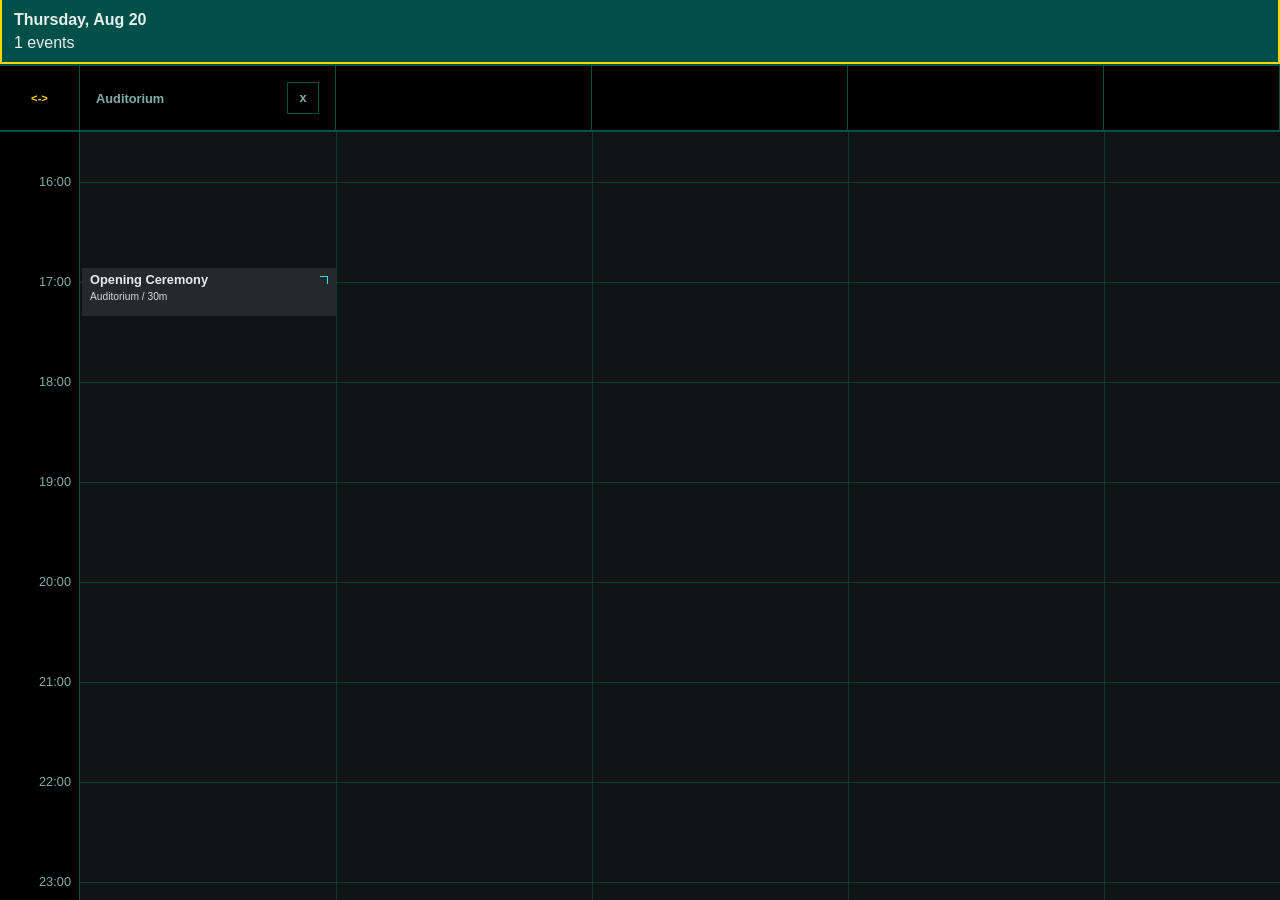
it: Components / CalendarView › should explain when every room of the day is hidden
The image size is (1280, 900).
What coordinates should you click on to do the following:
click the button named "Hide Auditorium"
I would click on:
 (303, 98)
Its box is x1=287 y1=82 x2=319 y2=114.
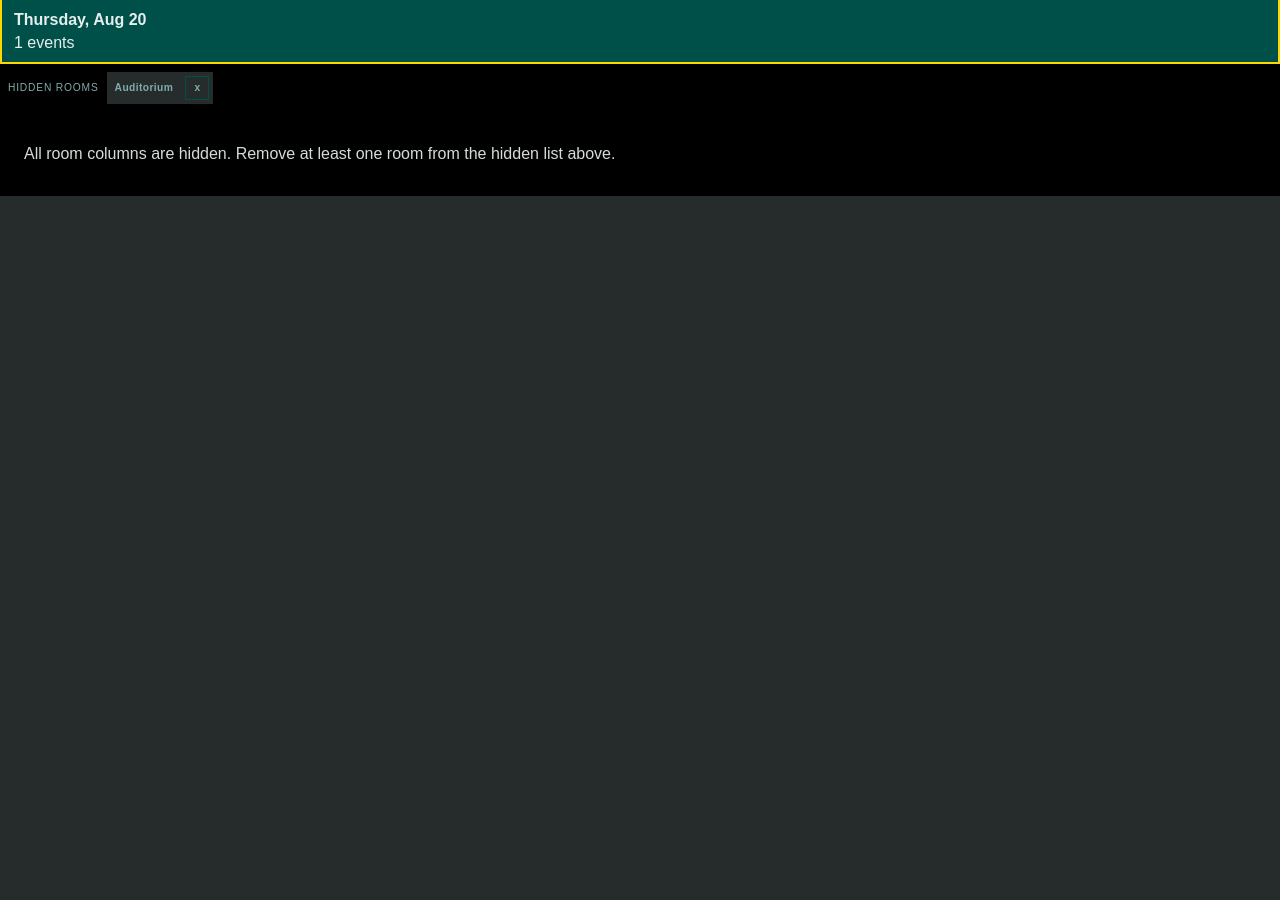
Now the text "All room columns are hidden. Remove at least one room from the hidden list above." is shown, box x1=24 y1=145 x2=615 y2=162
